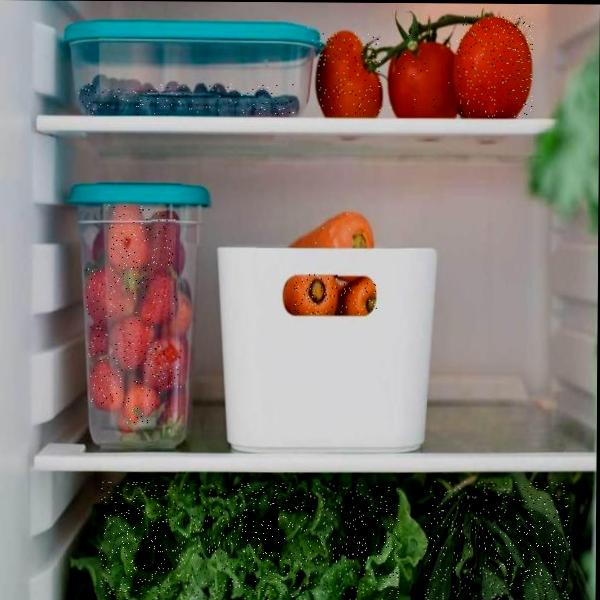blueberries: (77, 83, 296, 116)
carrot: (296, 213, 372, 246), (294, 275, 338, 315), (340, 282, 377, 315)
lettuce: (98, 482, 399, 600), (425, 481, 569, 600)
strawberries: (108, 203, 151, 286), (86, 269, 139, 322), (113, 319, 154, 369), (121, 381, 160, 426), (90, 357, 124, 408), (144, 342, 182, 387), (151, 212, 176, 276), (143, 279, 177, 324), (88, 321, 109, 357)
tomato: (456, 15, 533, 117), (389, 33, 456, 113), (319, 33, 381, 116)
